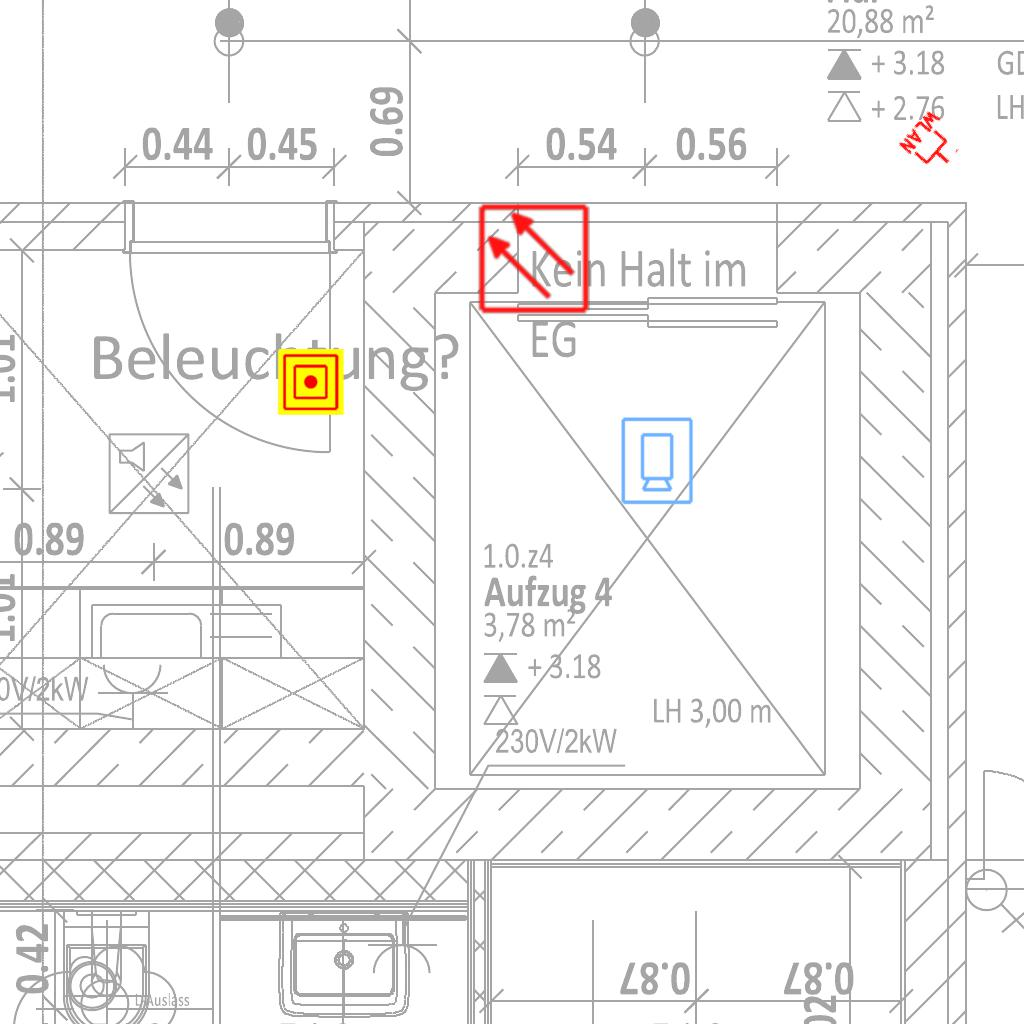KFO_Kamera_mit_Festobjektiv: (618, 415, 695, 506)
NAM-Nichtautomatischer_Melder: (278, 349, 344, 415)
RMO_Rauchmelder_optischer: (477, 202, 590, 315)
WLAN: (896, 106, 970, 180)
